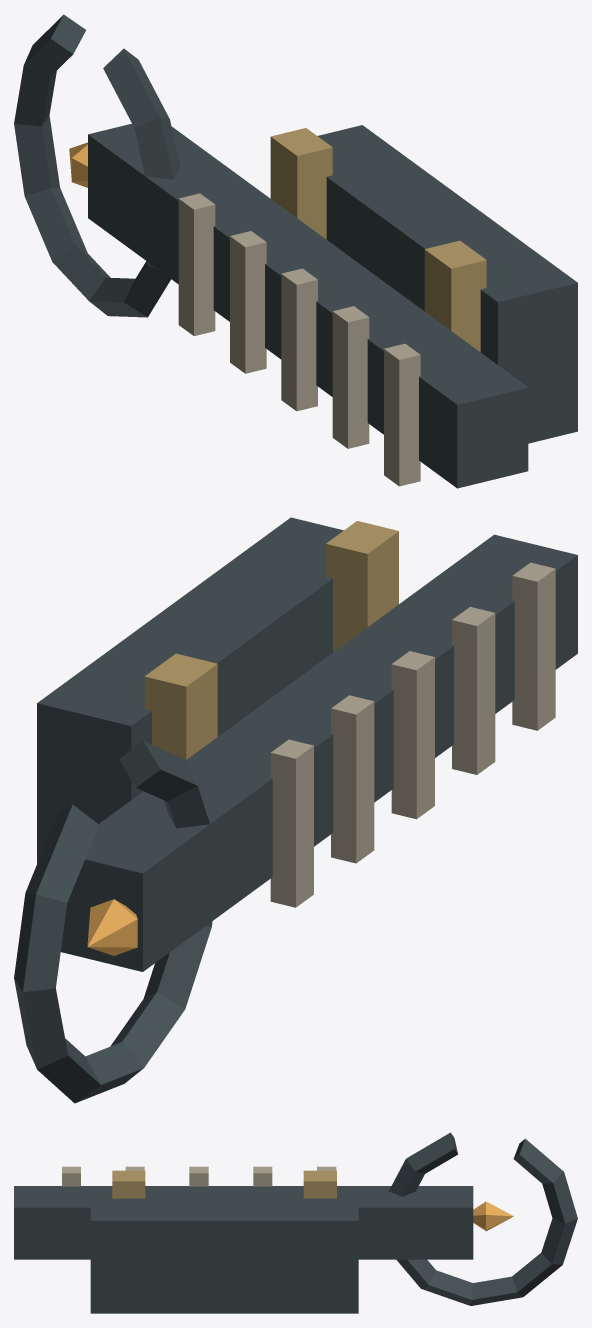
File: Arsenal_LastMileRail.fbx
3 views of the same model, one above another, from view 1: azimuth 30°, elevation 25°; view 2: azimuth 150°, elevation 25°; view 3: azimuth 270°, elevation 25° (orthographic). The views are drawn at different scales.
Parts seen in each view (by area): view 1: Arsenal_LastMileRail; view 2: Arsenal_LastMileRail; view 3: Arsenal_LastMileRail.
Boxes of the visible parts, <box> form: Arsenal_LastMileRail: <box>14,14,577,488</box>; Arsenal_LastMileRail: <box>14,517,577,1103</box>; Arsenal_LastMileRail: <box>14,1132,577,1313</box>.
Bounding box in the file's own units: 0.1135 × 0.1502 × 0.442.
